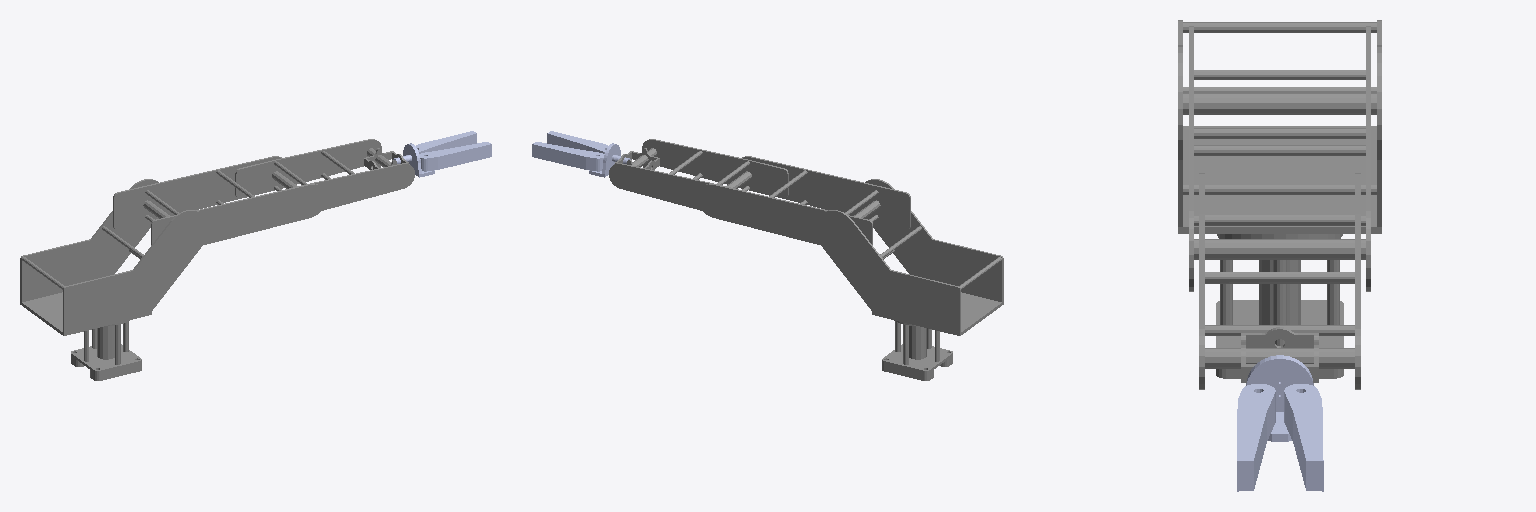
URDF robot description (Dorna_URDF2):
<?xml version="1.0" encoding="utf-8"?>
<!-- This URDF was automatically created by SolidWorks to URDF Exporter! Originally created by Stephen Brawner (brawner@gmail.com) 
     Commit Version: 1.6.0-4-g7f85cfe  Build Version: 1.6.7995.38578
     For more information, please see http://wiki.ros.org/sw_urdf_exporter -->
<robot
  name="Dorna_URDF2">
  <link
    name="Base">
    <inertial>
      <origin
        xyz="0.00171799594299715 3.24719083653058E-05 0.0454026855130489"
        rpy="0 0 0" />
      <mass
        value="0.142487012559893" />
      <inertia
        ixx="0.00027838863195399"
        ixy="1.2540633863245E-07"
        ixz="9.64546650700698E-06"
        iyy="0.000272080825764112"
        iyz="1.82309338875035E-07"
        izz="0.000136636035668991" />
    </inertial>
    <visual>
      <origin
        xyz="0 0 0"
        rpy="0 0 0" />
      <geometry>
        <mesh
          filename="package://Dorna_URDF2/meshes/Base.STL" />
      </geometry>
      <material
        name="">
        <color
          rgba="0.627450980392157 0.627450980392157 0.627450980392157 1" />
      </material>
    </visual>
    <collision>
      <origin
        xyz="0 0 0"
        rpy="0 0 0" />
      <geometry>
        <mesh
          filename="package://Dorna_URDF2/meshes/Base.STL" />
      </geometry>
    </collision>
  </link>
  <link
    name="J0">
    <inertial>
      <origin
        xyz="0.0019699415967287 -3.66373598126302E-15 0.122862275694399"
        rpy="0 0 0" />
      <mass
        value="0.265219935481748" />
      <inertia
        ixx="0.00122935540002985"
        ixy="-2.59367998968208E-18"
        ixz="-0.000407686810698034"
        iyy="0.00161738031064059"
        iyz="-2.55650801593763E-18"
        izz="0.00142773672794897" />
    </inertial>
    <visual>
      <origin
        xyz="0 0 0"
        rpy="0 0 0" />
      <geometry>
        <mesh
          filename="package://Dorna_URDF2/meshes/J0.STL" />
      </geometry>
      <material
        name="">
        <color
          rgba="0.627450980392157 0.627450980392157 0.627450980392157 1" />
      </material>
    </visual>
    <collision>
      <origin
        xyz="0 0 0"
        rpy="0 0 0" />
      <geometry>
        <mesh
          filename="package://Dorna_URDF2/meshes/J0.STL" />
      </geometry>
    </collision>
  </link>
  <joint
    name="J0"
    type="continuous">
    <origin
      xyz="0 0 0"
      rpy="0 0 0" />
    <parent
      link="Base" />
    <child
      link="J0" />
    <axis
      xyz="0 0 1" />
  </joint>
  <link
    name="J1">
    <inertial>
      <origin
        xyz="0.0931404070634041 -1.77635683940025E-15 9.76996261670138E-15"
        rpy="0 0 0" />
      <mass
        value="0.119188431579766" />
      <inertia
        ixx="0.000306938193650735"
        ixy="-2.685387141207E-18"
        ixz="2.57903773183001E-18"
        iyy="0.00109779729621223"
        iyz="-2.0989708043535E-18"
        izz="0.000847368368743496" />
    </inertial>
    <visual>
      <origin
        xyz="0 0 0"
        rpy="0 0 0" />
      <geometry>
        <mesh
          filename="package://Dorna_URDF2/meshes/J1.STL" />
      </geometry>
      <material
        name="">
        <color
          rgba="0.627450980392157 0.627450980392157 0.627450980392157 1" />
      </material>
    </visual>
    <collision>
      <origin
        xyz="0 0 0"
        rpy="0 0 0" />
      <geometry>
        <mesh
          filename="package://Dorna_URDF2/meshes/J1.STL" />
      </geometry>
    </collision>
  </link>
  <joint
    name="J1"
    type="continuous">
    <origin
      xyz="0.095476 0 0.20599"
      rpy="-1.5708 0 0" />
    <parent
      link="J0" />
    <child
      link="J1" />
    <axis
      xyz="0 0 -1" />
  </joint>
  <link
    name="J2">
    <inertial>
      <origin
        xyz="-0.0610867096246235 2.22044604925031E-16 1.22124532708767E-15"
        rpy="0 0 0" />
      <mass
        value="0.0842278287822715" />
      <inertia
        ixx="0.000159025056472993"
        ixy="1.63165041531024E-19"
        ixz="2.57631782930965E-19"
        iyy="0.000543216800409979"
        iyz="-3.33059385007049E-19"
        izz="0.000410910511975228" />
    </inertial>
    <visual>
      <origin
        xyz="0 0 0"
        rpy="0 0 0" />
      <geometry>
        <mesh
          filename="package://Dorna_URDF2/meshes/J2.STL" />
      </geometry>
      <material
        name="">
        <color
          rgba="0.627450980392157 0.627450980392157 0.627450980392157 1" />
      </material>
    </visual>
    <collision>
      <origin
        xyz="0 0 0"
        rpy="0 0 0" />
      <geometry>
        <mesh
          filename="package://Dorna_URDF2/meshes/J2.STL" />
      </geometry>
    </collision>
  </link>
  <joint
    name="J2"
    type="continuous">
    <origin
      xyz="0.2032 0 0"
      rpy="3.1416 0 3.1416" />
    <parent
      link="J1" />
    <child
      link="J2" />
    <axis
      xyz="0 0 1" />
  </joint>
  <link
    name="J3">
    <inertial>
      <origin
        xyz="-0.000500744200377712 -5.99520433297585E-15 3.5527136788005E-15"
        rpy="0 0 0" />
      <mass
        value="0.00651060166343246" />
      <inertia
        ixx="2.17554830397041E-06"
        ixy="1.4141694211265E-19"
        ixz="-1.19697348758942E-19"
        iyy="4.04673616883576E-06"
        iyz="3.21988733662304E-21"
        izz="2.21911621152792E-06" />
    </inertial>
    <visual>
      <origin
        xyz="0 0 0"
        rpy="0 0 0" />
      <geometry>
        <mesh
          filename="package://Dorna_URDF2/meshes/J3.STL" />
      </geometry>
      <material
        name="">
        <color
          rgba="0.627450980392157 0.627450980392157 0.627450980392157 1" />
      </material>
    </visual>
    <collision>
      <origin
        xyz="0 0 0"
        rpy="0 0 0" />
      <geometry>
        <mesh
          filename="package://Dorna_URDF2/meshes/J3.STL" />
      </geometry>
    </collision>
  </link>
  <joint
    name="J3"
    type="continuous">
    <origin
      xyz="-0.1524 0 0"
      rpy="3.1416 0 3.1416" />
    <parent
      link="J2" />
    <child
      link="J3" />
    <axis
      xyz="0 0 -1" />
  </joint>
  <link
    name="J4">
    <inertial>
      <origin
        xyz="1.18793863634892E-14 0.00816824454766807 0.00181827101333232"
        rpy="0 0 0" />
      <mass
        value="0.0158323889728486" />
      <inertia
        ixx="3.06380350609756E-06"
        ixy="5.38921988723959E-22"
        ixz="-6.54031507463726E-22"
        iyy="3.69083148341954E-06"
        iyz="-7.74781562331508E-07"
        izz="3.91946937751303E-06" />
    </inertial>
    <visual>
      <origin
        xyz="0 0 0"
        rpy="0 0 0" />
      <geometry>
        <mesh
          filename="package://Dorna_URDF2/meshes/J4.STL" />
      </geometry>
      <material
        name="">
        <color
          rgba="0.792156862745098 0.819607843137255 0.933333333333333 1" />
      </material>
    </visual>
    <collision>
      <origin
        xyz="0 0 0"
        rpy="0 0 0" />
      <geometry>
        <mesh
          filename="package://Dorna_URDF2/meshes/J4.STL" />
      </geometry>
    </collision>
  </link>
  <joint
    name="J4"
    type="continuous">
    <origin
      xyz="0.043668 0 0"
      rpy="0 1.5708 0" />
    <parent
      link="J3" />
    <child
      link="J4" />
    <axis
      xyz="0 0 -1" />
  </joint>
  <link
    name="Pinza1">
    <inertial>
      <origin
        xyz="-0.0395313653956102 0.00305931262991144 0.00999999999999979"
        rpy="0 0 0" />
      <mass
        value="0.0329921480222008" />
      <inertia
        ixx="2.16299033950902E-06"
        ixy="2.89067511340229E-06"
        ixz="6.96211633636584E-21"
        iyy="3.00320829753177E-05"
        iyz="-1.58284496981875E-21"
        izz="2.99955967800134E-05" />
    </inertial>
    <visual>
      <origin
        xyz="0 0 0"
        rpy="0 0 0" />
      <geometry>
        <mesh
          filename="package://Dorna_URDF2/meshes/Pinza1.STL" />
      </geometry>
      <material
        name="">
        <color
          rgba="0.792156862745098 0.819607843137255 0.933333333333333 1" />
      </material>
    </visual>
    <collision>
      <origin
        xyz="0 0 0"
        rpy="0 0 0" />
      <geometry>
        <mesh
          filename="package://Dorna_URDF2/meshes/Pinza1.STL" />
      </geometry>
    </collision>
  </link>
  <joint
    name="Pinza1"
    type="continuous">
    <origin
      xyz="0.0125 -0.005 0.0125"
      rpy="1.5708 1.3891 3.1416" />
    <parent
      link="J4" />
    <child
      link="Pinza1" />
    <axis
      xyz="0 0 1" />
  </joint>
  <link
    name="Pinza2">
    <inertial>
      <origin
        xyz="0.0394297174417539 0.0041696074482146 -0.00999999999999979"
        rpy="0 0 0" />
      <mass
        value="0.0329921480222008" />
      <inertia
        ixx="2.04953926359032E-06"
        ixy="-2.27625853544929E-06"
        ixz="-6.73066825925822E-20"
        iyy="3.01455340512363E-05"
        iyz="-9.28764812442901E-21"
        izz="2.99955967800133E-05" />
    </inertial>
    <visual>
      <origin
        xyz="0 0 0"
        rpy="0 0 0" />
      <geometry>
        <mesh
          filename="package://Dorna_URDF2/meshes/Pinza2.STL" />
      </geometry>
      <material
        name="">
        <color
          rgba="0.792156862745098 0.819607843137255 0.933333333333333 1" />
      </material>
    </visual>
    <collision>
      <origin
        xyz="0 0 0"
        rpy="0 0 0" />
      <geometry>
        <mesh
          filename="package://Dorna_URDF2/meshes/Pinza2.STL" />
      </geometry>
    </collision>
  </link>
  <joint
    name="Pinza2"
    type="continuous">
    <origin
      xyz="-0.0125 -0.005 0.0125"
      rpy="1.5708 -1.5708 0" />
    <parent
      link="J4" />
    <child
      link="Pinza2" />
    <axis
      xyz="0 0 1" />
  </joint>
</robot>

--- Facts derived from the render (not from the file) ---
3 views of the same robot in one strip: view 1: azimuth 30°, elevation 25°; view 2: azimuth 150°, elevation 25°; view 3: azimuth 270°, elevation 25° (orthographic).
Robot: Dorna_URDF2 — 8 links, 7 joints (7 continuous); root link Base; default pose: every joint at zero.
Links seen in each view (by area): view 1: J0, J1, J2, Base, Pinza1, Pinza2; view 2: J0, J1, J2, Base, Pinza2, Pinza1; view 3: J0, J1, J2, Base, Pinza2, Pinza1, J4, J3.
Link boxes in pixels (bbox=[...]): J0: bbox=[20, 179, 208, 359]; J1: bbox=[113, 156, 326, 244]; J2: bbox=[235, 139, 414, 210]; Base: bbox=[71, 320, 141, 380]; Pinza1: bbox=[419, 142, 491, 171]; Pinza2: bbox=[416, 131, 476, 153]; J0: bbox=[815, 179, 1003, 359]; J1: bbox=[697, 156, 910, 244]; J2: bbox=[609, 139, 788, 210]; Base: bbox=[882, 320, 952, 380]; Pinza2: bbox=[532, 142, 604, 171]; Pinza1: bbox=[547, 131, 607, 153]; J0: bbox=[1178, 20, 1381, 324]; J1: bbox=[1189, 26, 1370, 291]; J2: bbox=[1199, 173, 1360, 389]; Base: bbox=[1216, 234, 1343, 378]; Pinza2: bbox=[1284, 384, 1323, 491]; Pinza1: bbox=[1237, 384, 1275, 491]; J4: bbox=[1246, 355, 1313, 441]; J3: bbox=[1241, 327, 1318, 382].
Bounding box of the posed robot: 0.7088 × 0.1207 × 0.2408 m (x, y, z).
8 mesh visuals loaded from 8 distinct referenced files (8 binary STL).
